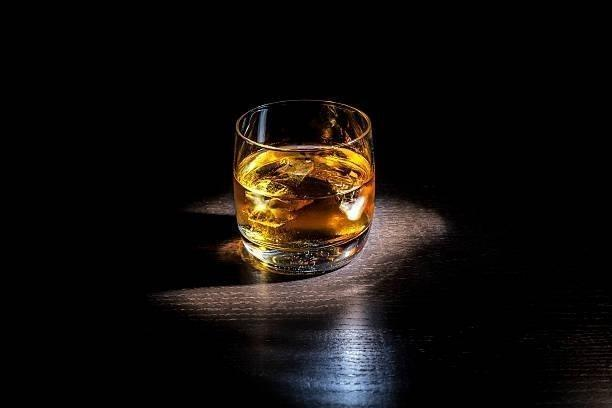glass-normal: (231, 97, 377, 277)
